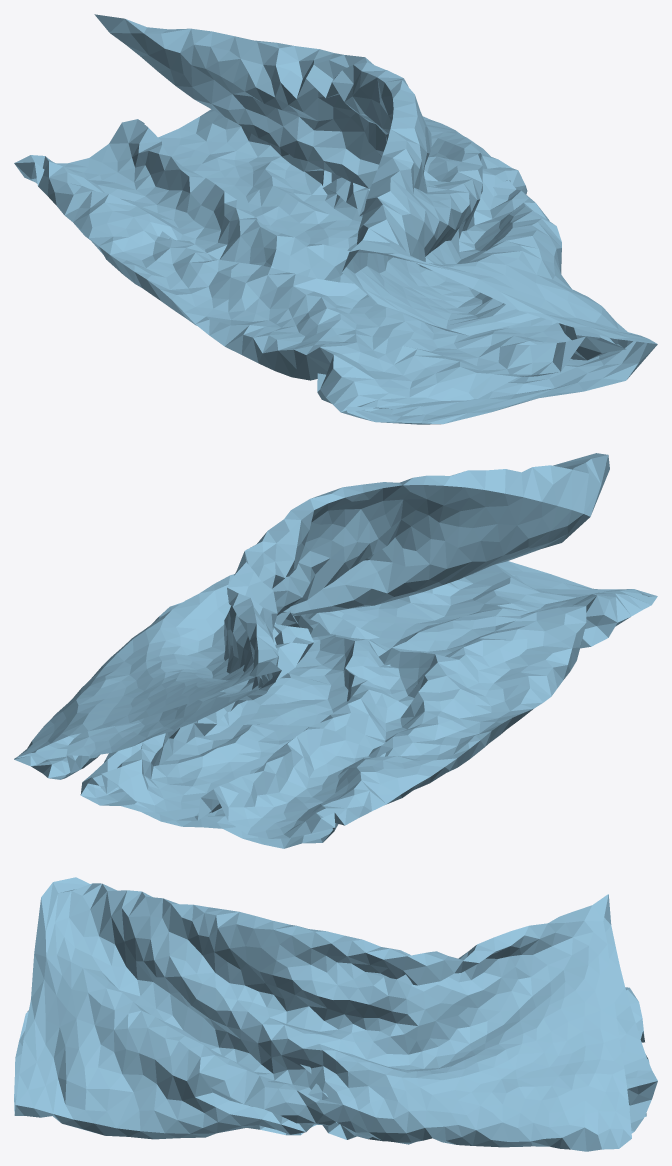
File: frame_17.glb
3 views of the same model, one above another, from view 1: azimuth 30°, elevation 25°; view 2: azimuth 150°, elevation 25°; view 3: azimuth 270°, elevation 25° (orthographic). The views are drawn at different scales.
Parts seen in each view (by area): view 1: frame_17.obj; view 2: frame_17.obj; view 3: frame_17.obj.
Part boxes in pixels (left/top/right/bottom): frame_17.obj: left=14, top=14, right=657, bottom=424; frame_17.obj: left=14, top=453, right=657, bottom=848; frame_17.obj: left=14, top=877, right=657, bottom=1151.
Size of the model in its own units: 0.8631 by 0.4534 by 1.5.
